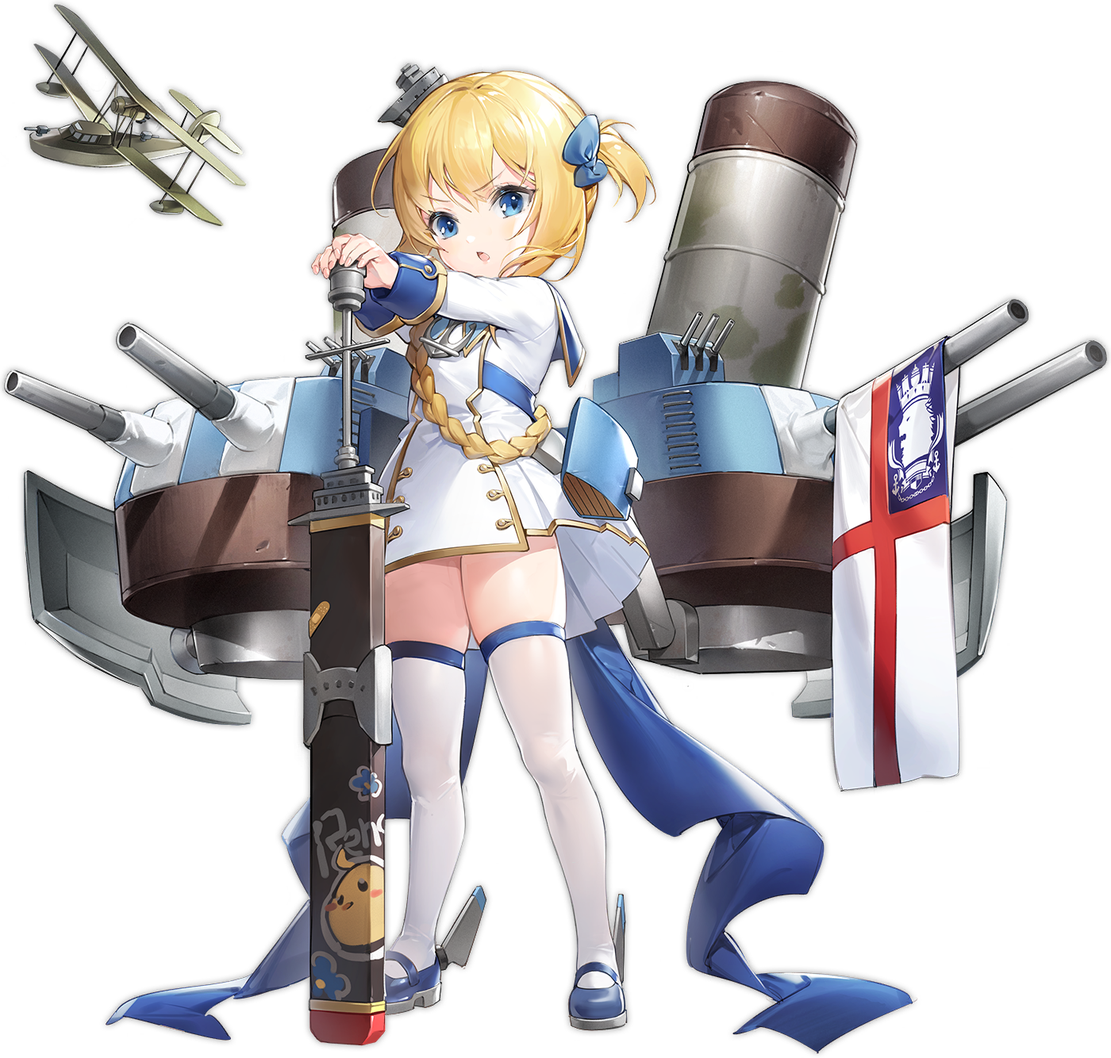person: (2, 33, 829, 1057)
